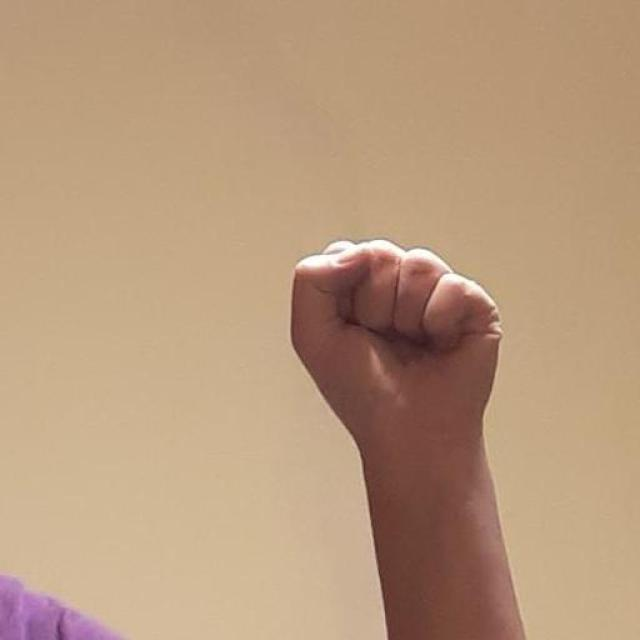hand: (288, 236, 504, 459)
